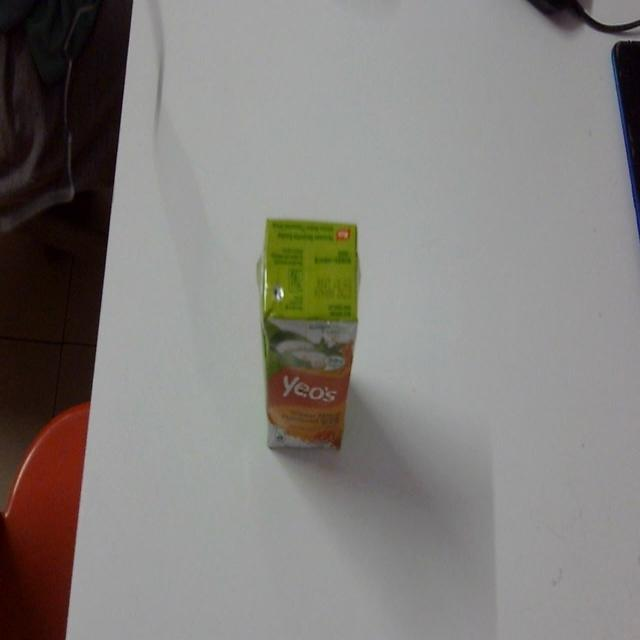plastic_standrotation: (249, 196, 367, 466)
